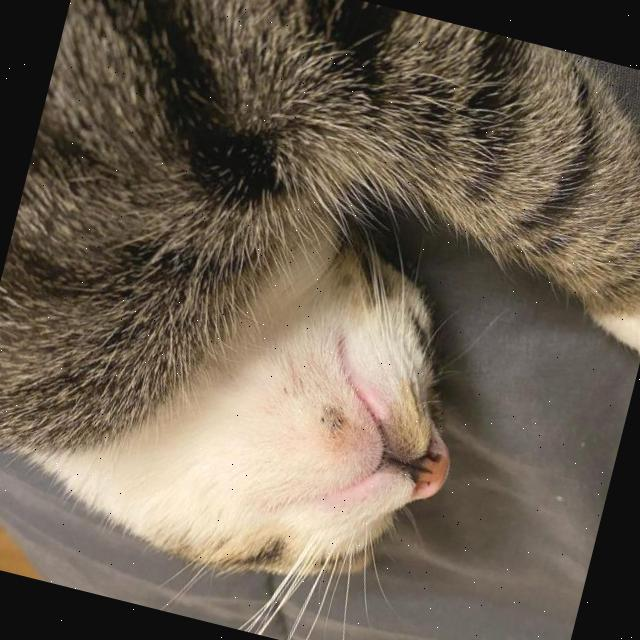cat-acne: (313, 398, 353, 442)
